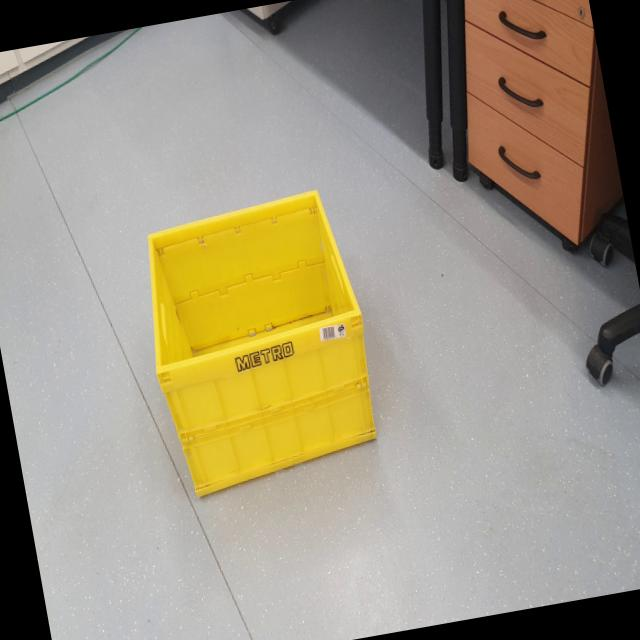box: (121, 163, 400, 520)
